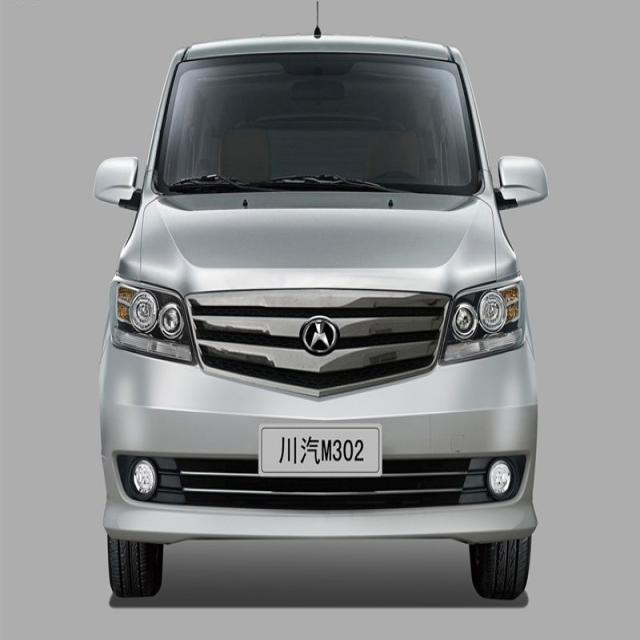front_bumper: (98, 340, 539, 540)
front_glass: (147, 47, 485, 199)
front_left_side_light: (442, 275, 526, 366)
front_left_side_mirror: (493, 154, 549, 211)
front_right_side_light: (110, 277, 196, 363)
front_right_side_mirror: (92, 155, 146, 213)
